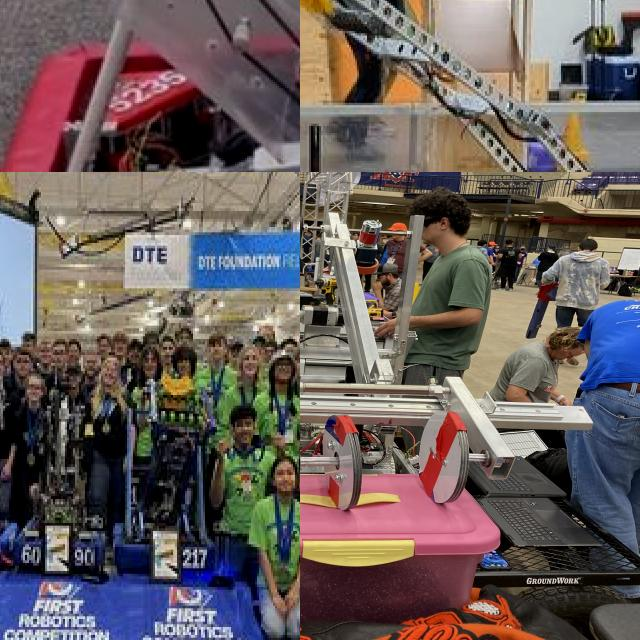FRC-Robots: (300, 0, 640, 172), (0, 0, 300, 172), (106, 346, 264, 624), (8, 336, 95, 604)
